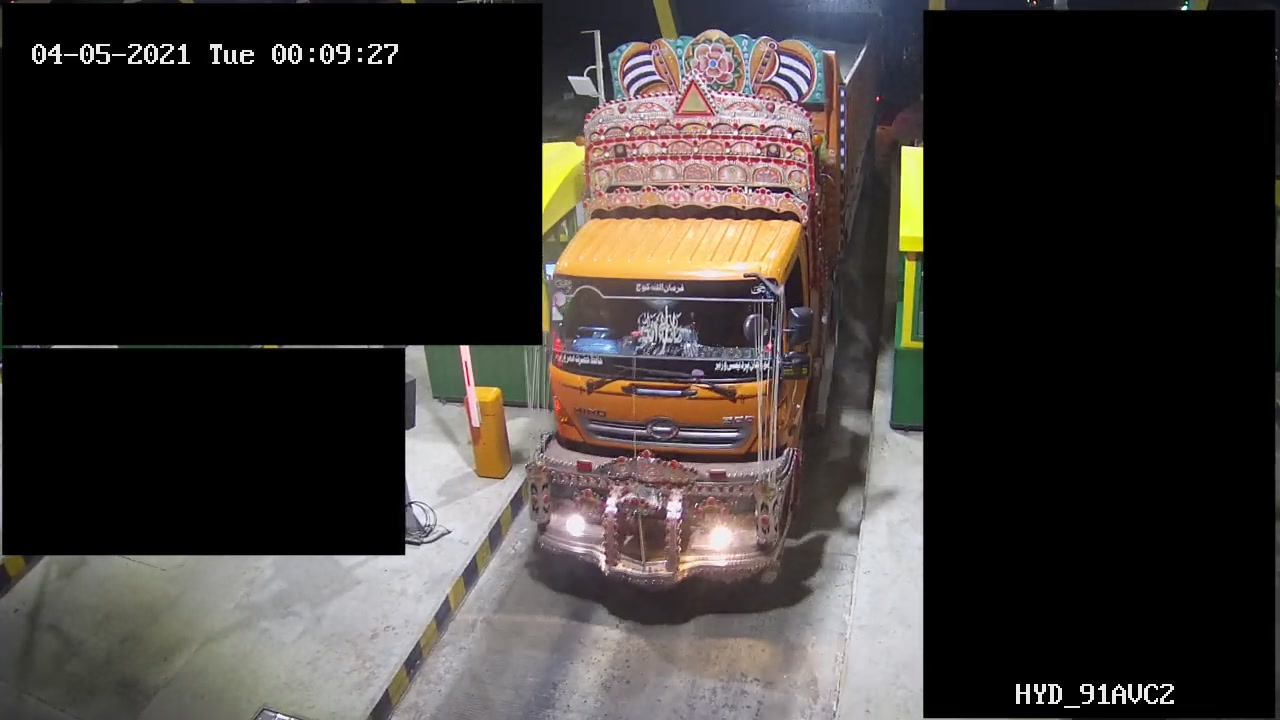F6: (522, 12, 877, 607)
